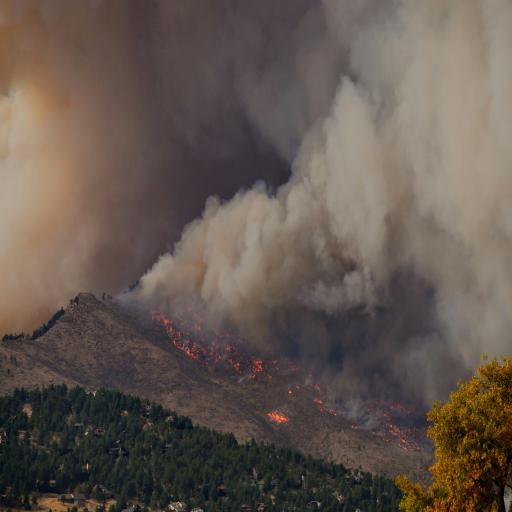smoke: (0, 0, 512, 287)
wildfire: (98, 229, 512, 447)
